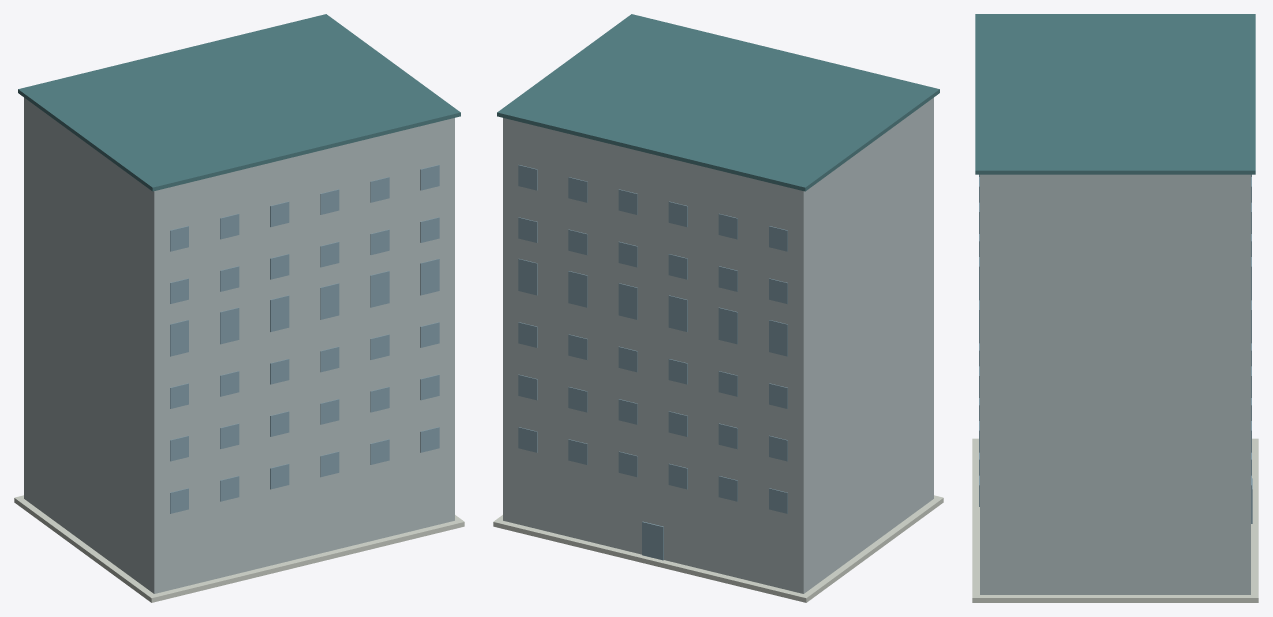
The model's file is city_office.glb.
3 views of the same model, side by side, from view 1: azimuth 30°, elevation 25°; view 2: azimuth 150°, elevation 25°; view 3: azimuth 270°, elevation 25° (orthographic). The views are drawn at different scales.
Parts seen in each view (by area): view 1: city_office__walls, city_office__roof, city_office__plinth; view 2: city_office__walls, city_office__roof, city_office__plinth, city_office__front_door; view 3: city_office__walls, city_office__roof, city_office__plinth.
Boxes of the visible parts, <box> form: city_office__walls: <box>24,97,454,593</box>; city_office__roof: <box>18,14,460,191</box>; city_office__plinth: <box>14,495,464,602</box>; city_office__walls: <box>503,97,933,593</box>; city_office__roof: <box>497,14,939,191</box>; city_office__plinth: <box>493,495,943,602</box>; city_office__front_door: <box>642,521,663,560</box>; city_office__walls: <box>980,174,1250,594</box>; city_office__roof: <box>975,14,1255,174</box>; city_office__plinth: <box>972,438,1258,602</box>.
Size of the model in its own units: 25 by 31.55 by 19.
